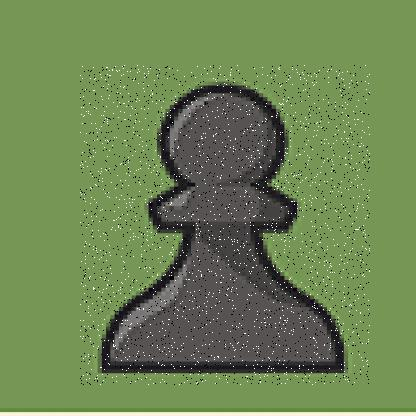Black Pawn: (80, 65, 371, 386)
